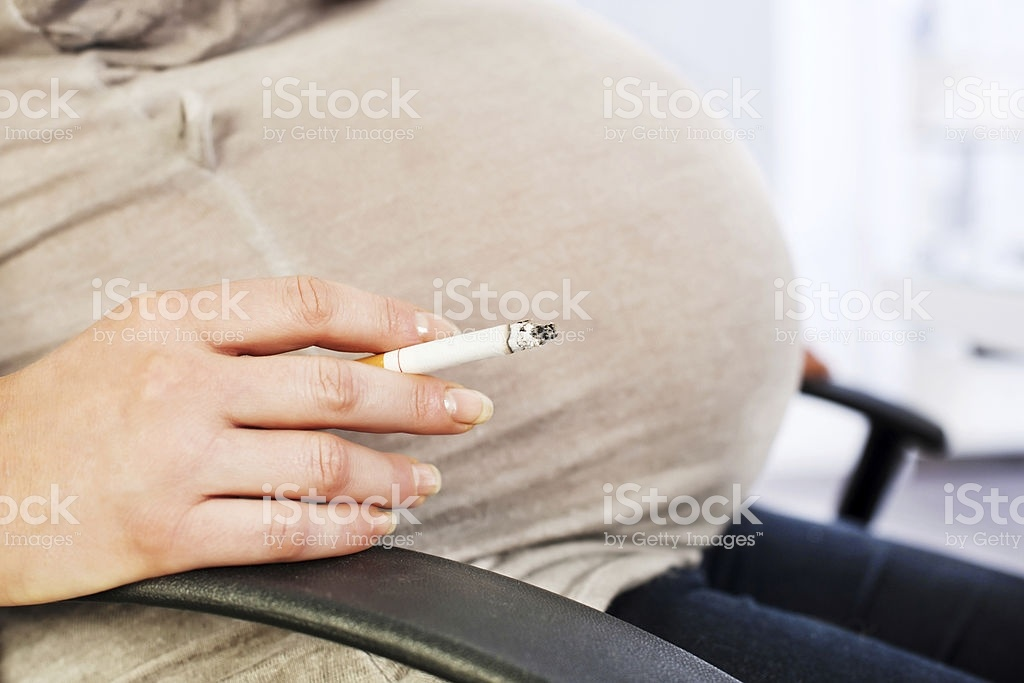sigaretta: (346, 318, 550, 379)
